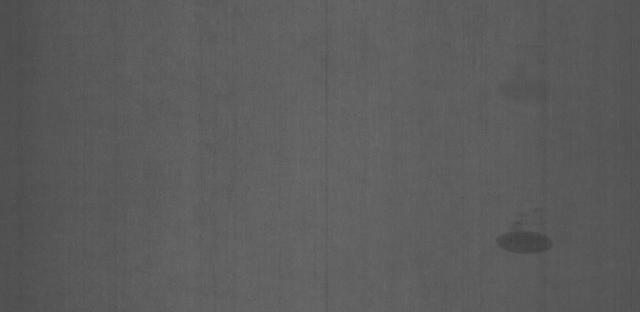oil_spot: (486, 216, 570, 264)
